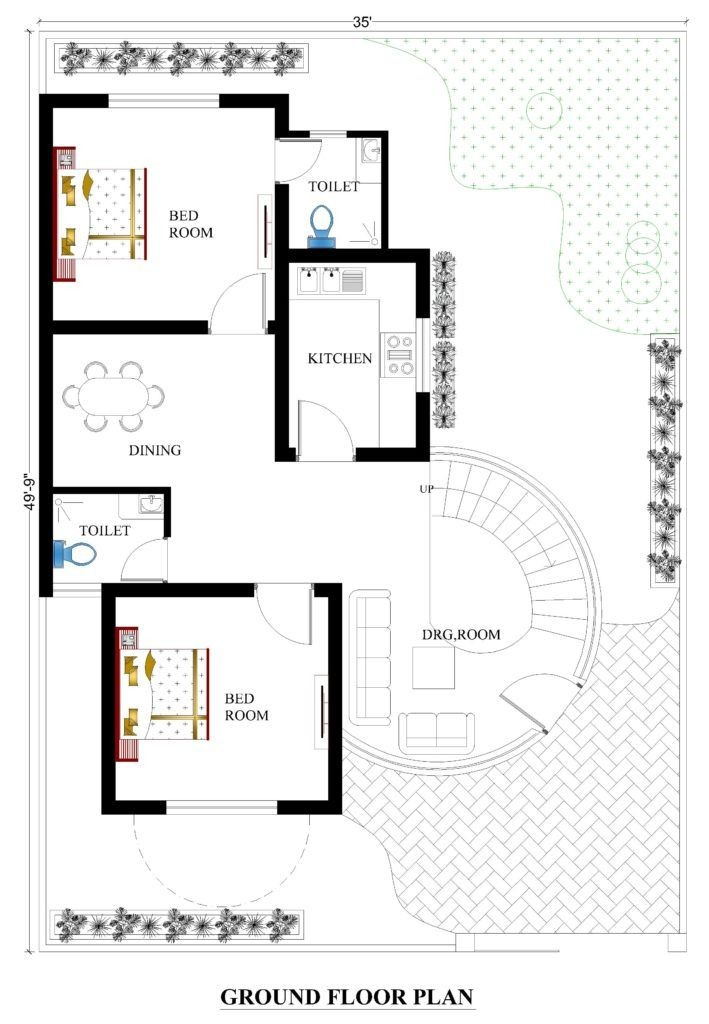door: (251, 557, 337, 671), (292, 392, 359, 467), (206, 266, 275, 338), (115, 536, 180, 592), (264, 136, 325, 180)
room: (37, 317, 281, 600), (33, 74, 287, 341), (94, 577, 358, 827), (251, 253, 453, 478), (269, 127, 415, 266)
wall: (8, 64, 64, 605), (311, 574, 353, 833), (267, 192, 300, 461), (89, 586, 123, 821), (44, 311, 214, 346), (95, 572, 258, 607), (369, 121, 406, 257), (286, 244, 439, 271), (409, 242, 444, 321), (355, 438, 437, 471), (270, 792, 337, 832), (406, 386, 439, 466), (50, 480, 172, 499), (39, 85, 111, 116), (215, 86, 294, 111), (355, 124, 392, 149)
window: (158, 786, 283, 828), (112, 83, 214, 108), (414, 322, 447, 397)
